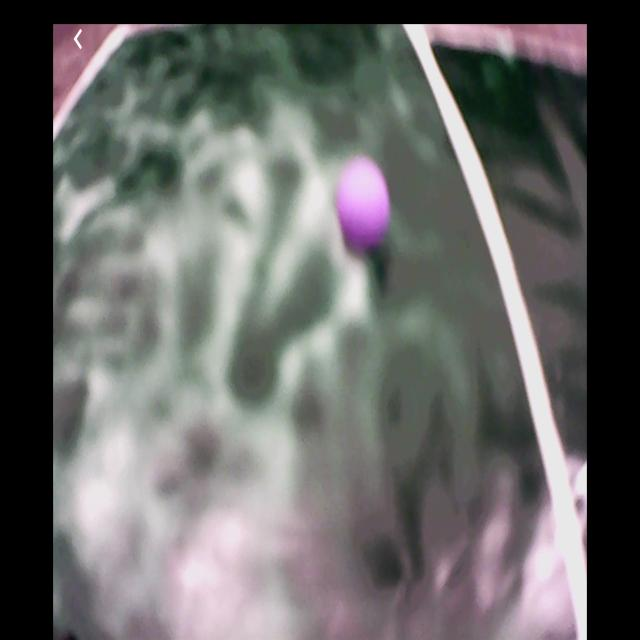ball: (336, 157, 388, 245)
